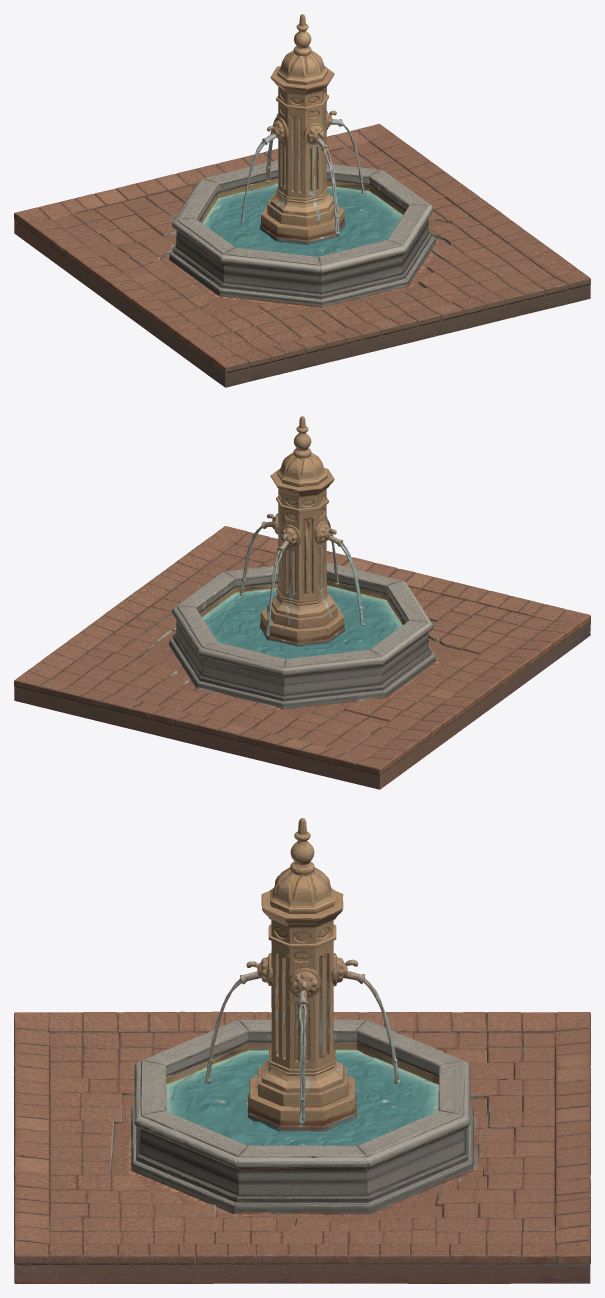
File: pavement_fountain.glb
The picture shows the model from 3 angles, top to bottom: view 1: azimuth 30°, elevation 25°; view 2: azimuth 150°, elevation 25°; view 3: azimuth 270°, elevation 25°; orthographic projection. The views are drawn at different scales.
Visible parts, largest first — view 1: output_unwrapped; view 2: output_unwrapped; view 3: output_unwrapped.
Boxes of the visible parts, x1,y1,x2,y2 form: output_unwrapped: (14,14,590,387); output_unwrapped: (14,416,590,789); output_unwrapped: (14,818,590,1283).
Size of the model in its own units: 2 by 1.31 by 2.
Materials: 1 (1 with a texture image).
